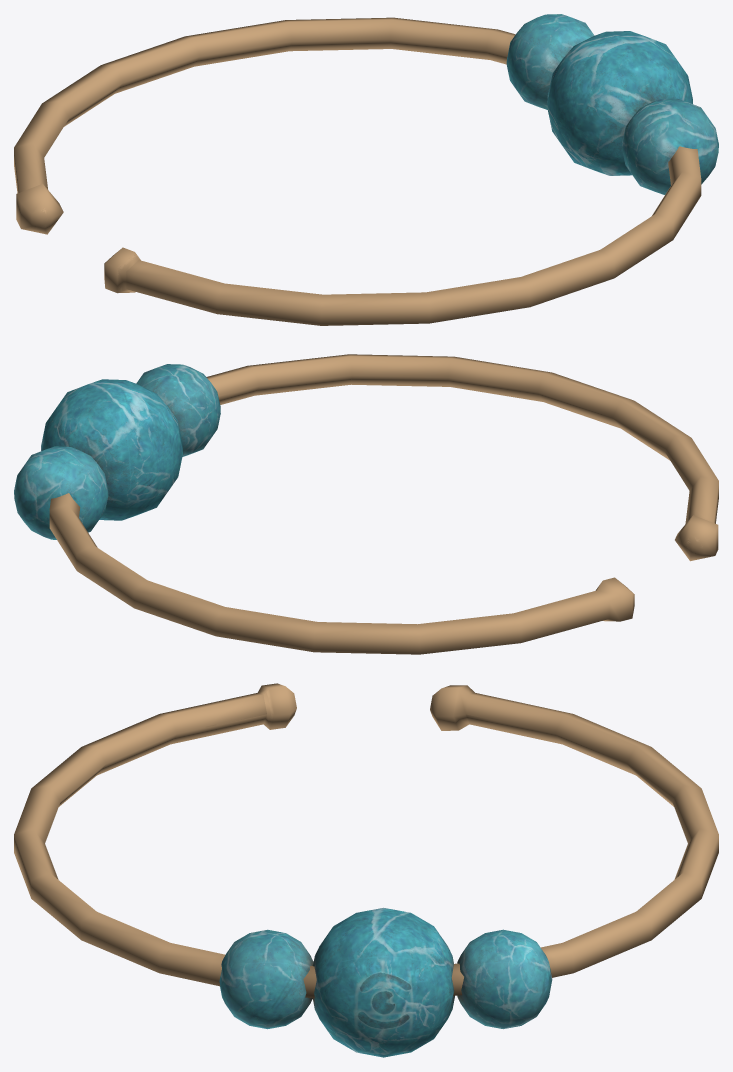
The model's file is Collier.fbx.
3 views of the same model, one above another, from view 1: azimuth 30°, elevation 25°; view 2: azimuth 150°, elevation 25°; view 3: azimuth 270°, elevation 25° (orthographic). The views are drawn at different scales.
Parts seen in each view (by area): view 1: polySurface643; view 2: polySurface643; view 3: polySurface643.
Part boxes in pixels (x1,y1,x2,y2): polySurface643: [14, 14, 718, 325]; polySurface643: [14, 354, 718, 654]; polySurface643: [14, 683, 718, 1057].
Size of the model in its own units: 18.12 by 3.61 by 17.22.
1 material, 1 textured.
